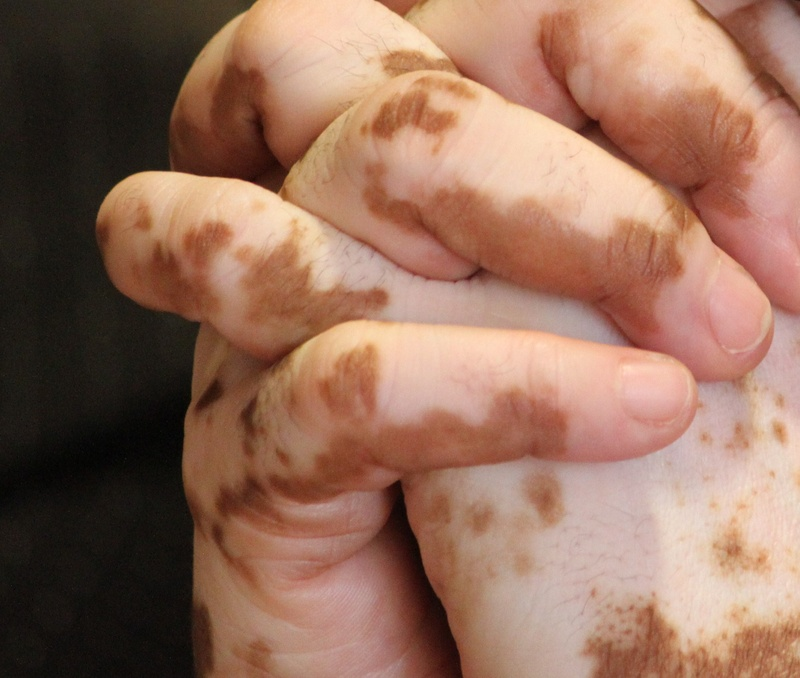vitiligo: (194, 39, 763, 678)
